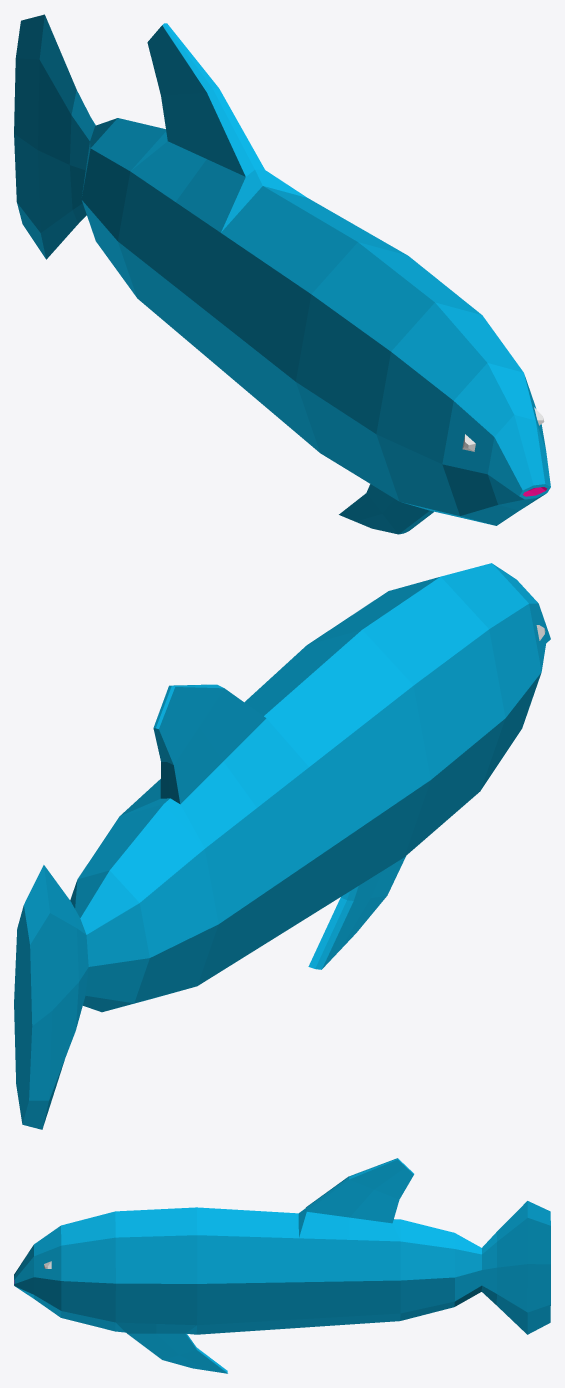
Rendered from Anchovy.fbx.
3 renders of one model, top to bottom at view 1: azimuth 30°, elevation 25°; view 2: azimuth 150°, elevation 25°; view 3: azimuth 270°, elevation 25°, orthographic. The views are drawn at different scales.
Visible parts, largest first — view 1: Circle; view 2: Circle; view 3: Circle.
Boxes of the visible parts, x1,y1,x2,y2 form: Circle: (14,14,550,534); Circle: (14,563,550,1129); Circle: (14,1158,550,1373).
Bounding box in the file's own units: 64.03 × 169 × 396.
